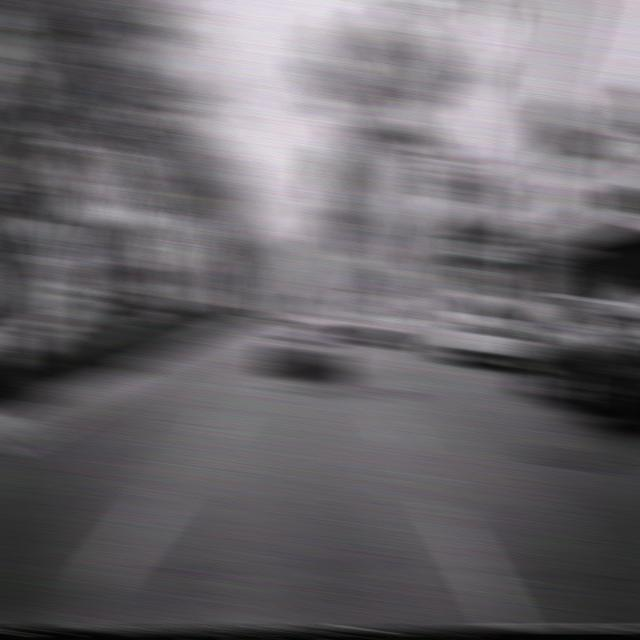speedLimit35: (522, 222, 558, 264)
